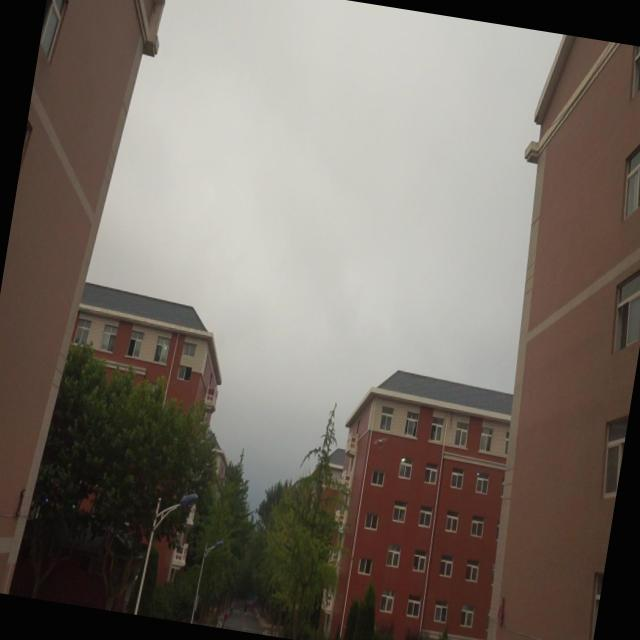drone: (371, 429, 393, 451)
